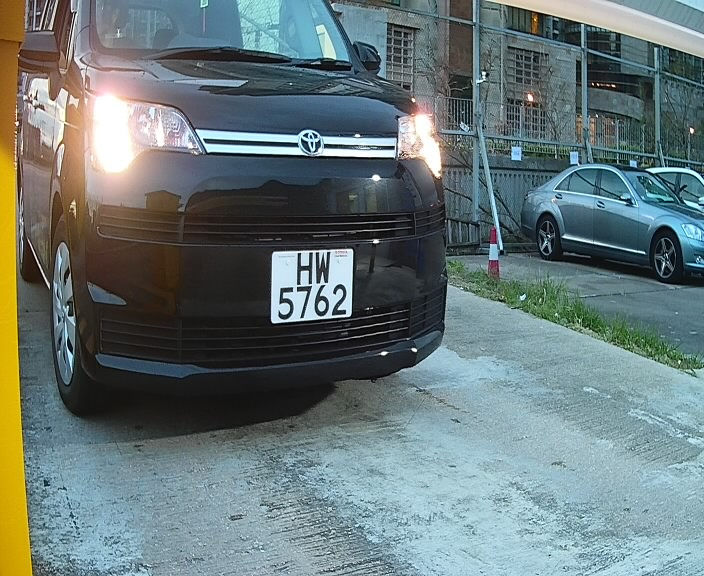Car: (15, 2, 472, 435)
License Plate: (263, 238, 361, 336)
